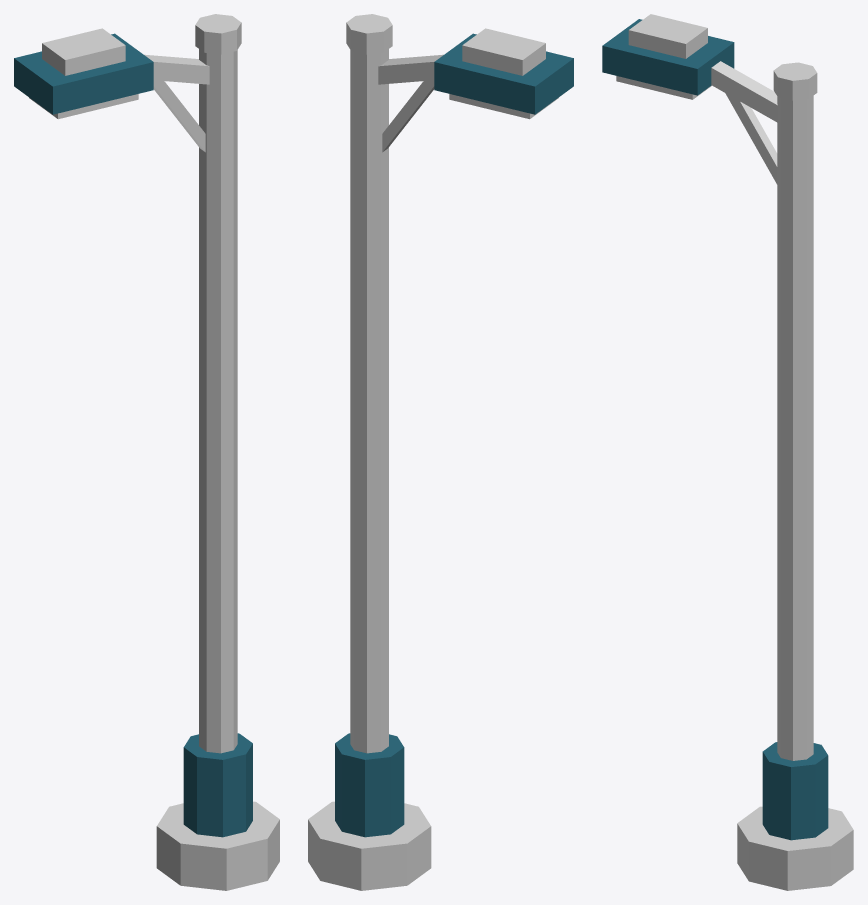
Rendered from decor_street_lamp.obj.
The picture shows the model from 3 angles, left to right: view 1: azimuth 30°, elevation 25°; view 2: azimuth 150°, elevation 25°; view 3: azimuth 330°, elevation 25°; orthographic projection. The views are drawn at different scales.
Parts seen in each view (by area): view 1: Body, Lamp; view 2: Body, Lamp; view 3: Body, Lamp.
Part boxes in pixels (x1=…): Body: x1=14, y1=14, x2=279, y2=890; Lamp: x1=29, y1=94, x2=138, y2=119; Body: x1=308, y1=14, x2=573, y2=890; Lamp: x1=449, y1=94, x2=558, y2=119; Body: x1=602, y1=14, x2=853, y2=890; Lamp: x1=616, y1=76, x2=711, y2=99.
Bounding box in the file's own units: 0.6978 × 2.42 × 0.2956.
